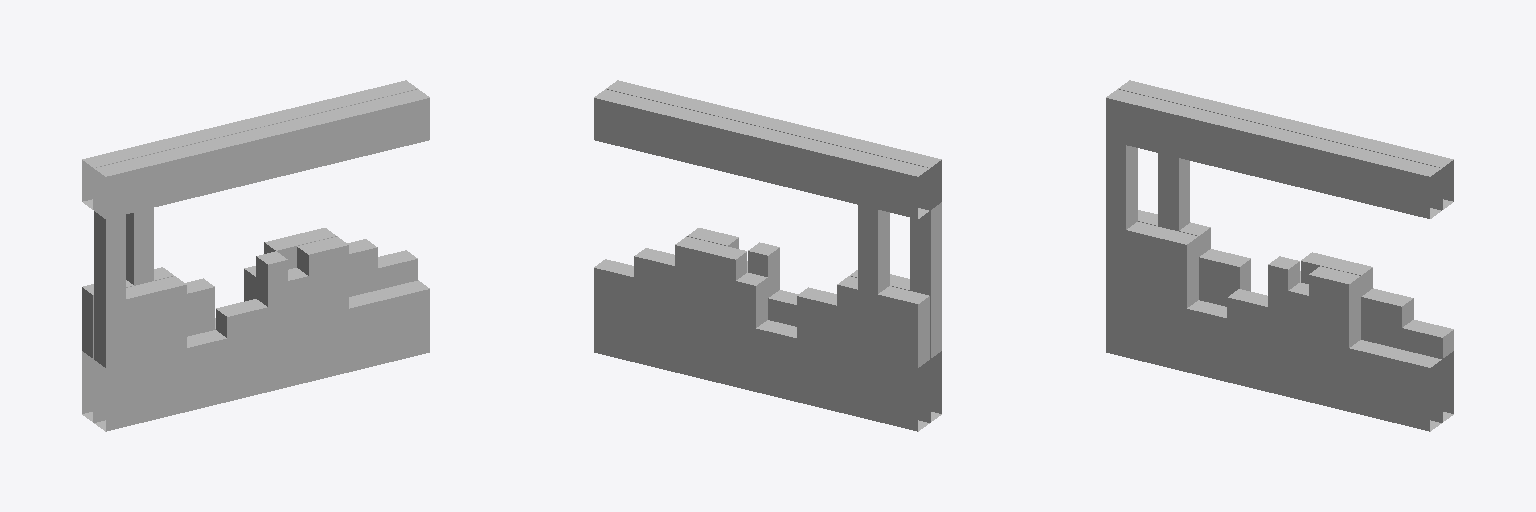
The model's file is Casey4NoMat.obj.
The picture shows the model from 3 angles: view 1: azimuth 30°, elevation 25°; view 2: azimuth 150°, elevation 25°; view 3: azimuth 330°, elevation 25°; orthographic projection.
Visible parts, largest first — view 1: Plane, Plane.001_Plane.002; view 2: Plane.001_Plane.002, Plane; view 3: Plane, Plane.001_Plane.002.
Part boxes in pixels (bbox=[...]): Plane: bbox=[94, 89, 429, 431]; Plane.001_Plane.002: bbox=[82, 80, 417, 422]; Plane.001_Plane.002: bbox=[594, 89, 929, 431]; Plane: bbox=[606, 80, 941, 422]; Plane: bbox=[1106, 89, 1441, 431]; Plane.001_Plane.002: bbox=[1118, 80, 1453, 422].
Size of the model in its own units: 16 by 12 by 2.04.